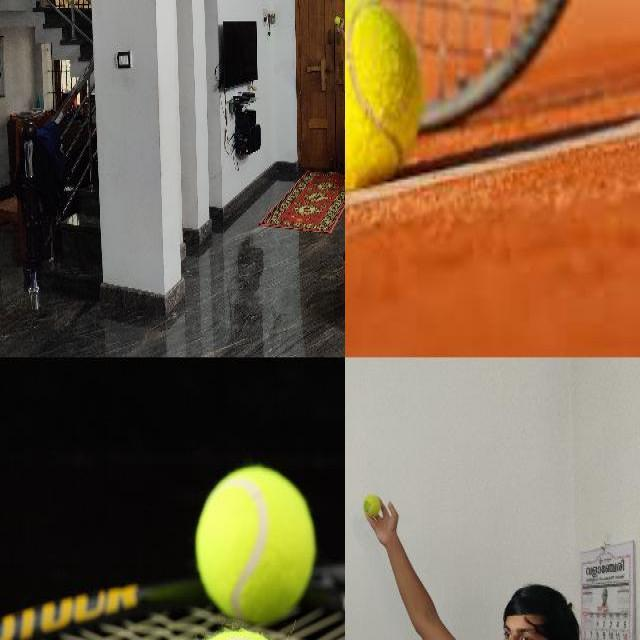tennis-ball: (193, 467, 316, 621), (345, 0, 422, 196), (362, 494, 380, 516), (334, 16, 340, 24)
